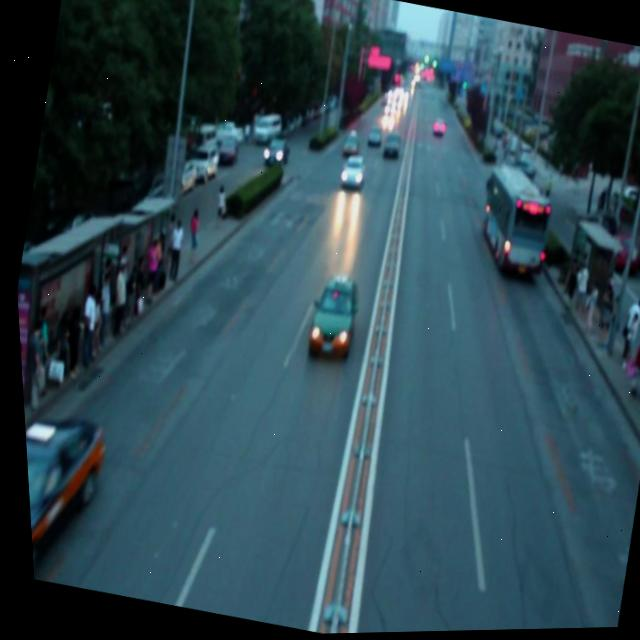car: (19, 401, 108, 588), (296, 270, 360, 361), (337, 156, 364, 190), (339, 130, 359, 157), (379, 133, 399, 158), (363, 127, 380, 147)
van: (467, 163, 557, 280)
